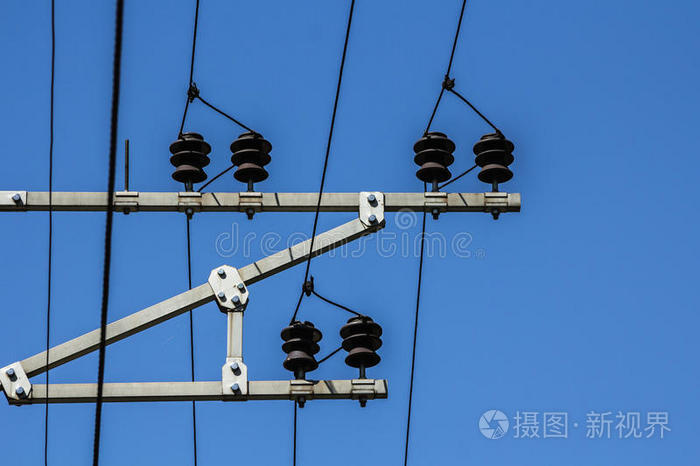insulator: (342, 319, 385, 371), (472, 139, 518, 185), (278, 324, 321, 372), (415, 135, 456, 185), (169, 138, 211, 183), (229, 139, 275, 180)
